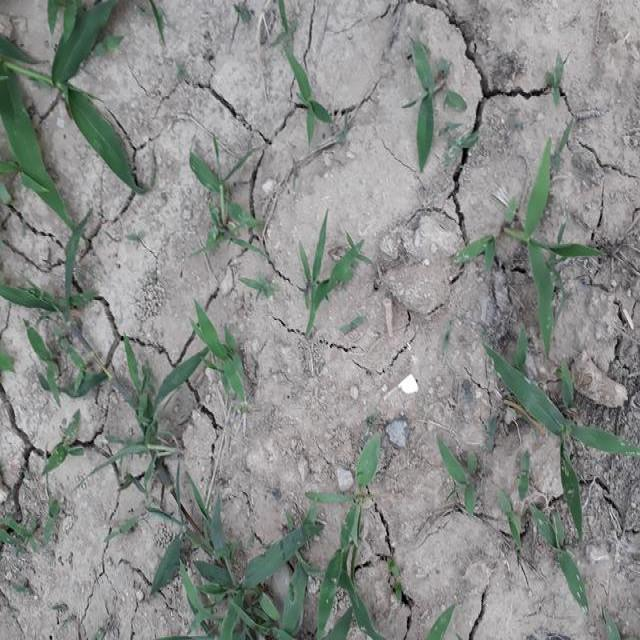weed: (147, 503, 366, 640), (0, 0, 135, 206), (483, 345, 640, 510), (525, 130, 595, 361), (80, 359, 206, 458), (1, 217, 110, 301), (412, 46, 461, 171), (289, 228, 363, 308), (194, 149, 253, 243), (190, 298, 244, 400), (282, 53, 328, 140)
